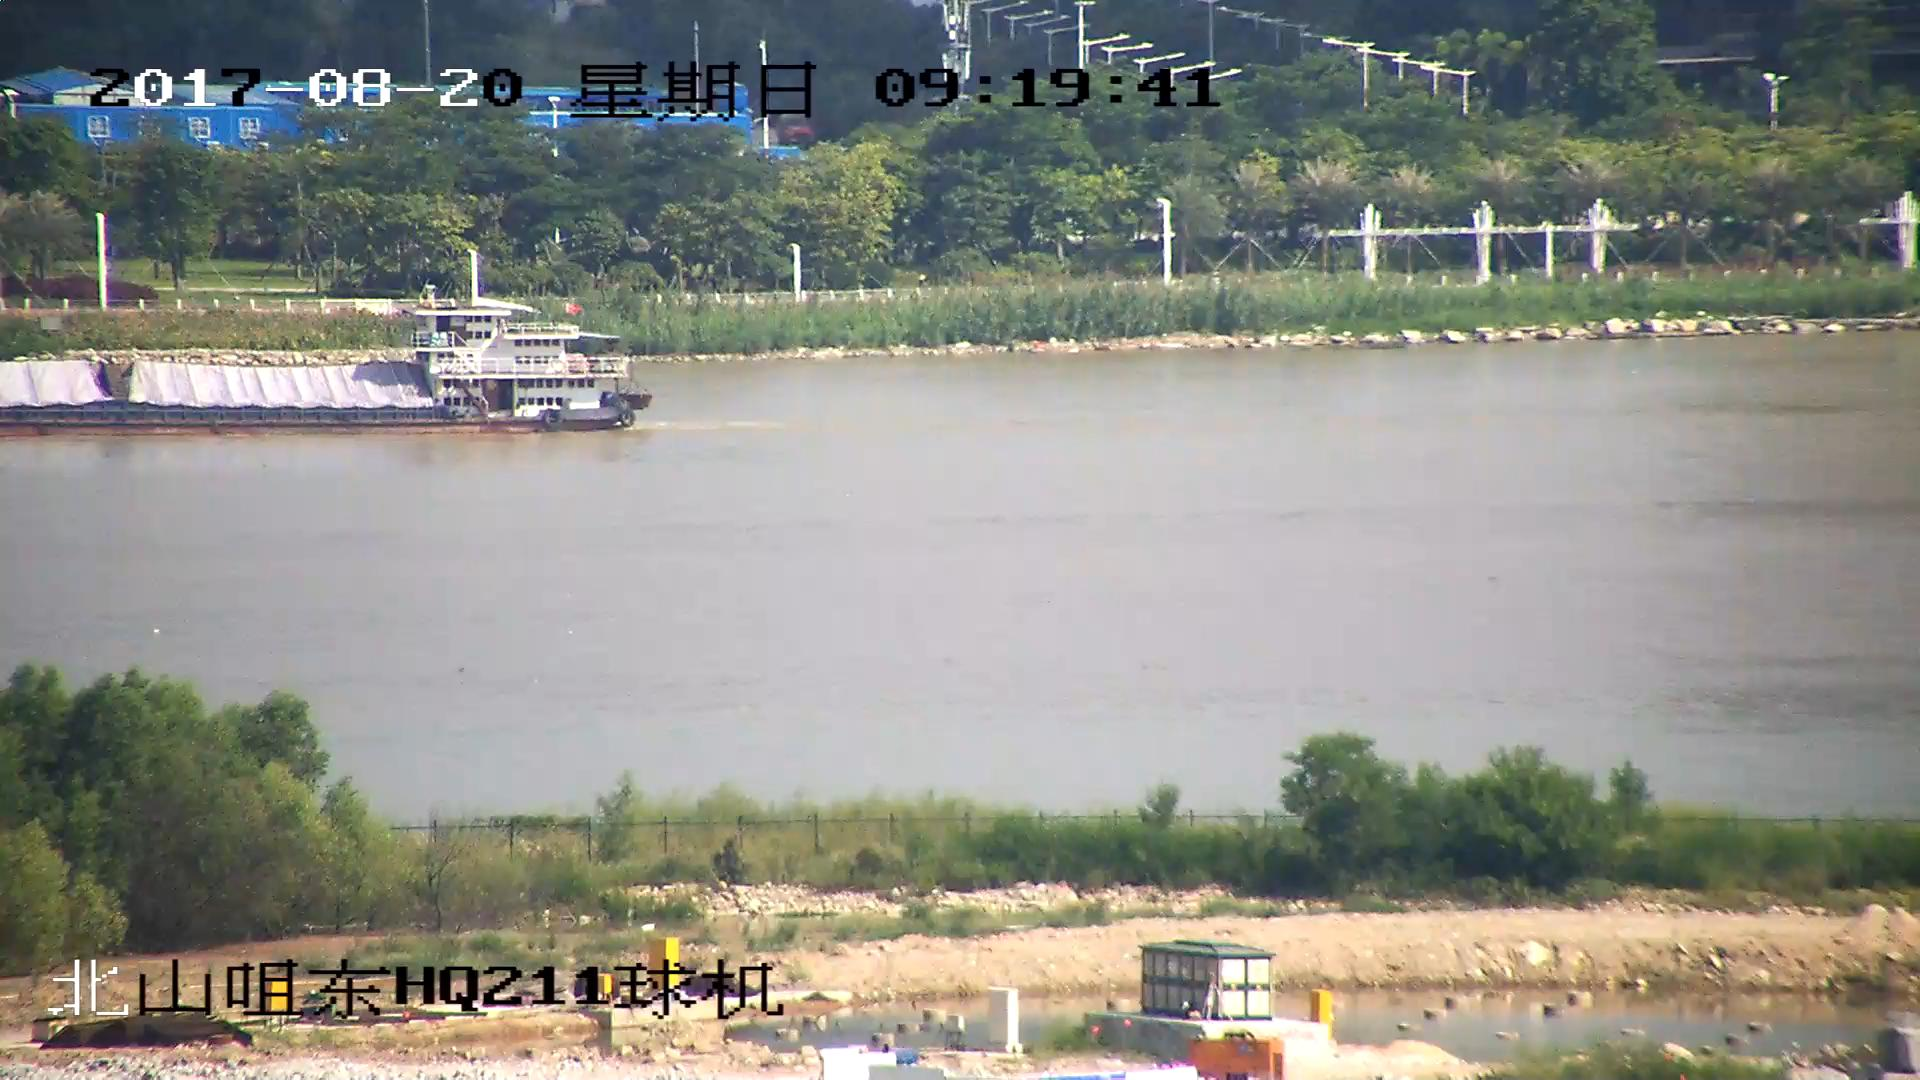general cargo ship: (1, 303, 645, 440)
